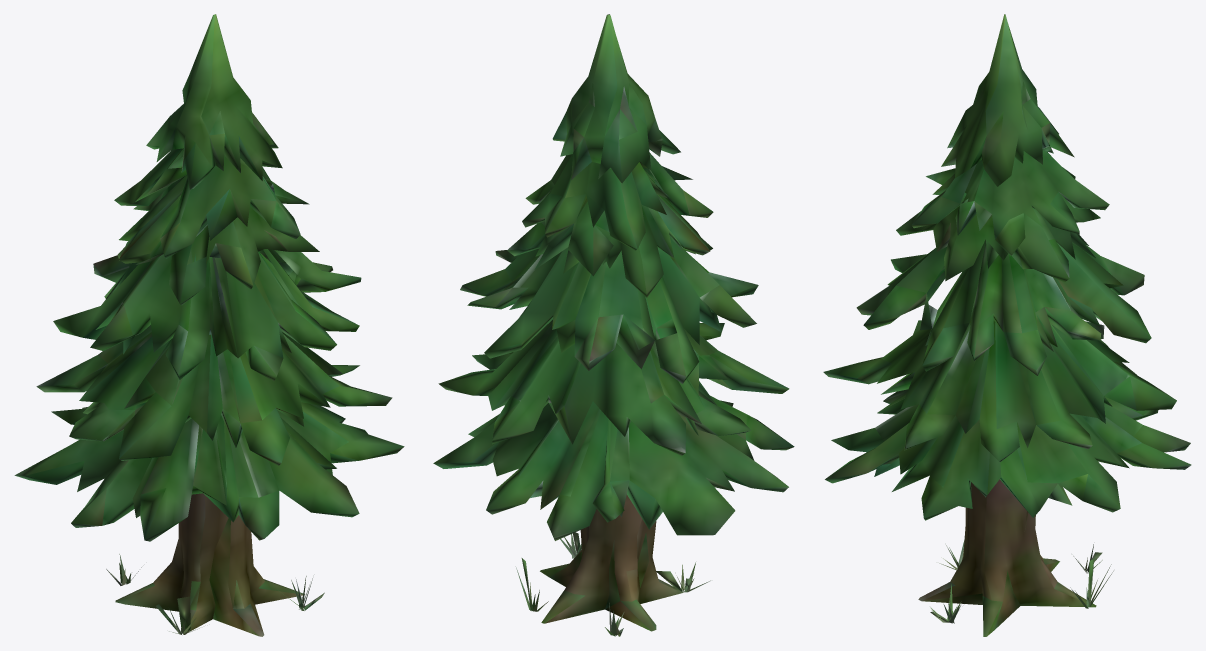
File: world-tree-fir.glb
3 renders of one model, left to right at view 1: azimuth 30°, elevation 25°; view 2: azimuth 150°, elevation 25°; view 3: azimuth 270°, elevation 25°, orthographic.
Parts seen in each view (by area): view 1: model; view 2: model; view 3: model.
Part boxes in pixels (bbox=[...]): model: bbox=[14, 14, 404, 636]; model: bbox=[433, 14, 794, 636]; model: bbox=[823, 14, 1191, 636].
Size of the model in its own units: 2.26 by 4.1 by 2.35.
Materials: 1 (1 with a texture image).
